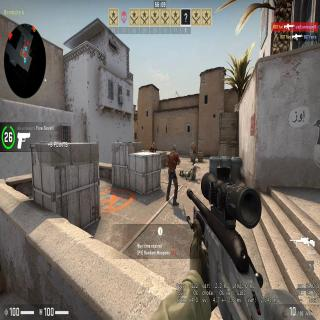T-Body: (166, 144, 180, 206), (192, 142, 196, 163), (149, 142, 157, 152)
T-Head: (172, 144, 176, 154), (192, 142, 195, 146), (152, 142, 155, 146)
